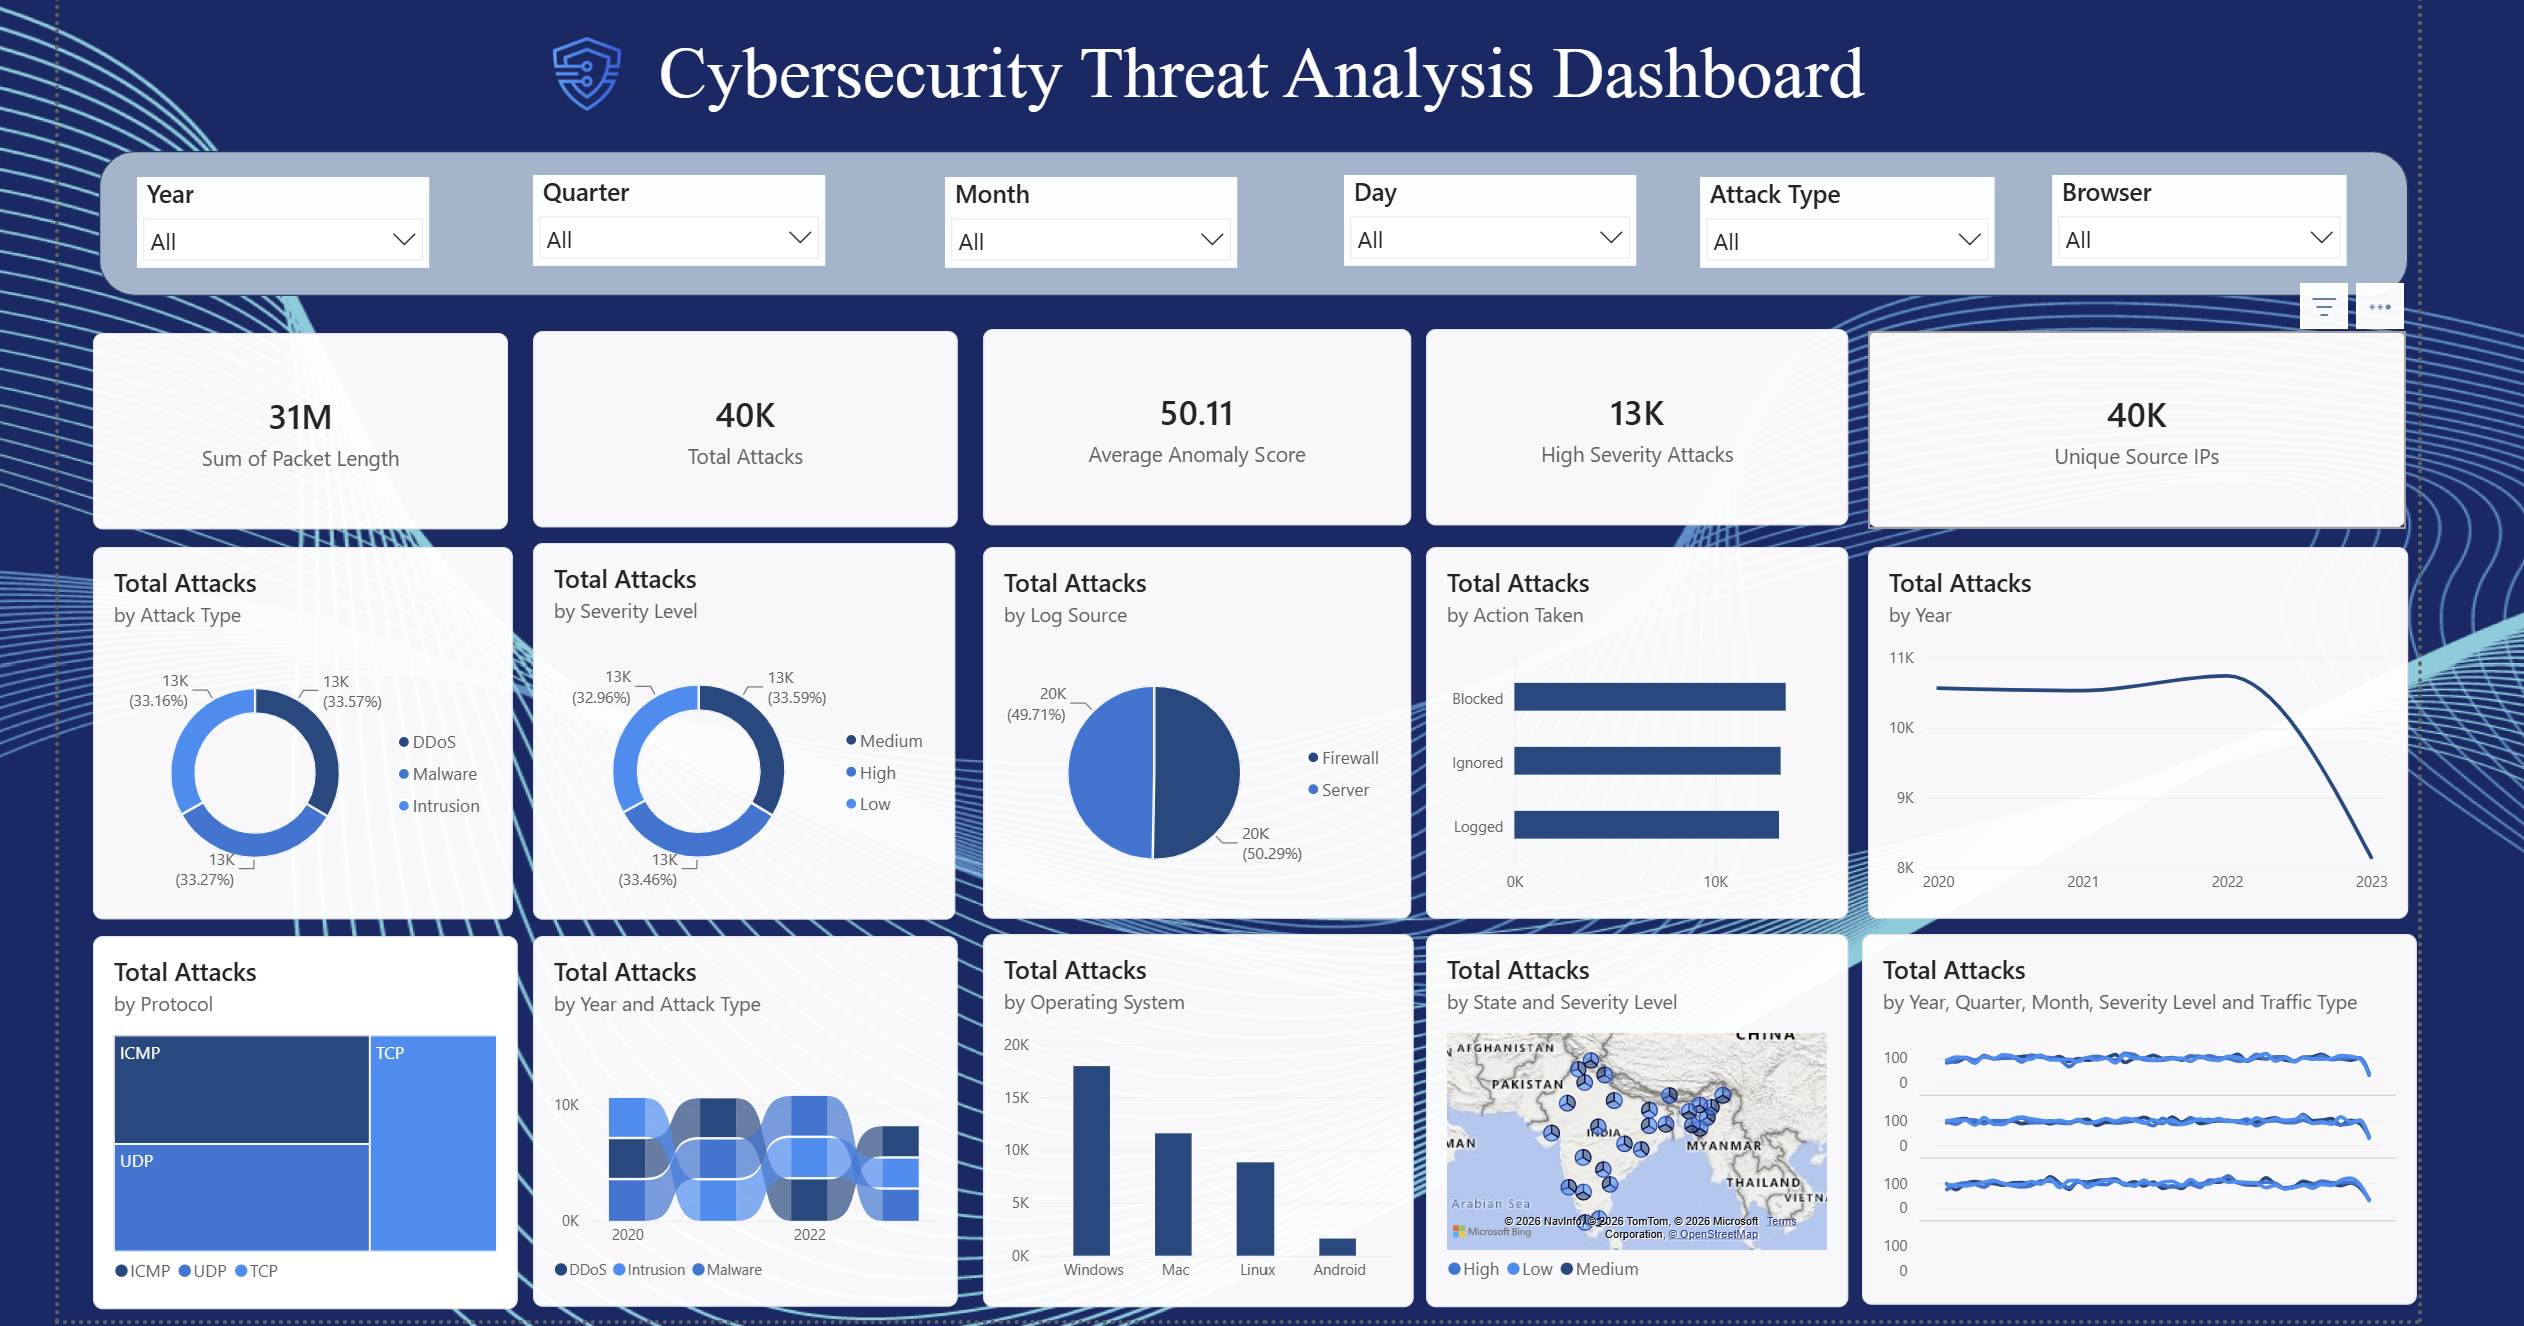

What the dashboard file says about the page in this screenshot:
{"tool":"powerbi","page":{"name":"Page 1","canvas":[1920,1080],"ordinal":0},"visuals":[{"type":"shape","box":[32,128,1880,118],"z":0},{"type":"slicer","fields":{"Values":["cybersecurity_attacks.Date.Variation.Date Hierarchy.Year"]},"box":[64,150,238,74],"z":1000},{"type":"card","fields":{"Values":["cybersecurity_attacks.Total Attacks"]},"box":[386,276,346,160],"z":2000},{"type":"card","fields":{"Values":["cybersecurity_attacks.Unique Source IPs"]},"box":[1472,276,438,160],"z":3000},{"type":"card","fields":{"Values":["cybersecurity_attacks.Average Anomaly Score"]},"box":[752,274,348,160],"z":4000},{"type":"card","fields":{"Values":["cybersecurity_attacks.High Severity Attacks"]},"box":[1112,274,344,160],"z":5000},{"type":"slicer","fields":{"Values":["cybersecurity_attacks.Date.Variation.Date Hierarchy.Quarter"]},"box":[386,148,238,74],"z":6000},{"type":"slicer","fields":{"Values":["cybersecurity_attacks.Attack Type"]},"box":[1336,150,240,74],"z":7000},{"type":"slicer","fields":{"Values":["cybersecurity_attacks.Date.Variation.Date Hierarchy.Day"]},"box":[1046,148,238,74],"z":8000},{"type":"slicer","fields":{"Values":["cybersecurity_attacks.Date.Variation.Date Hierarchy.Month"]},"box":[722,150,238,74],"z":9000},{"type":"lineChart","fields":{"Category":["cybersecurity_attacks.Date.Variation.Date Hierarchy.Year","cybersecurity_attacks.Date.Variation.Date Hierarchy.Quarter","cybersecurity_attacks.Date.Variation.Date Hierarchy.Month","cybersecurity_attacks.Date.Variation.Date Hierarchy.Day"],"Y":["cybersecurity_attacks.Total Attacks"]},"box":[1472,452,440,302],"z":10000},{"type":"donutChart","fields":{"Category":["cybersecurity_attacks.Severity Level"],"Y":["cybersecurity_attacks.Total Attacks"]},"box":[386,448,344,306],"z":11000},{"type":"donutChart","fields":{"Category":["cybersecurity_attacks.Attack Type"],"Y":["cybersecurity_attacks.Total Attacks"]},"box":[27.7,450.8,342.1,302.5],"z":12000},{"type":"ribbonChart","fields":{"Category":["cybersecurity_attacks.Date.Variation.Date Hierarchy.Year","cybersecurity_attacks.Date.Variation.Date Hierarchy.Quarter","cybersecurity_attacks.Date.Variation.Date Hierarchy.Month","cybersecurity_attacks.Date.Variation.Date Hierarchy.Day"],"Series":["cybersecurity_attacks.Attack Type"],"Y":["cybersecurity_attacks.Total Attacks"]},"box":[386,768,346,302],"z":13000},{"type":"clusteredBarChart","fields":{"Category":["cybersecurity_attacks.Action Taken"],"Y":["cybersecurity_attacks.Total Attacks"]},"box":[1112,452,344,302],"z":14000},{"type":"image","box":[386,18,88,96],"z":15000},{"type":"textbox","box":[412,12,1134,108],"z":16000},{"type":"treemap","fields":{"Group":["cybersecurity_attacks.Protocol"],"Values":["cybersecurity_attacks.Total Attacks"]},"box":[28,768,346,304],"z":17000},{"type":"card","fields":{"Values":["Sum(cybersecurity_attacks.Packet Length)"]},"box":[27.7,276.8,338.1,160.2],"z":18000},{"type":"pieChart","fields":{"Category":["cybersecurity_attacks.Log Source"],"Y":["cybersecurity_attacks.Total Attacks"]},"box":[752,452,348,302],"z":19000},{"type":"map","fields":{"Category":["cybersecurity_attacks.State","cybersecurity_attacks.City"],"Series":["cybersecurity_attacks.Severity Level"],"Size":["cybersecurity_attacks.Total Attacks"]},"box":[1112,766,344,304],"z":20000},{"type":"columnChart","fields":{"Category":["cybersecurity_attacks.Operating System"],"Y":["cybersecurity_attacks.Total Attacks"]},"box":[752,766,350,304],"z":21000},{"type":"lineChart","fields":{"Category":["cybersecurity_attacks.Date.Variation.Date Hierarchy.Year","cybersecurity_attacks.Date.Variation.Date Hierarchy.Quarter","cybersecurity_attacks.Date.Variation.Date Hierarchy.Month","cybersecurity_attacks.Date.Variation.Date Hierarchy.Day"],"Rows":["cybersecurity_attacks.Traffic Type"],"Series":["cybersecurity_attacks.Severity Level"],"Y":["cybersecurity_attacks.Total Attacks"]},"box":[1468,766,452,302],"z":22000},{"type":"slicer","fields":{"Values":["cybersecurity_attacks.Browser"]},"box":[1622,148,240,74],"z":23000},{"type":"actionButton","box":[1762.5,45,100,40],"z":24000}]}

Visuals, with their boxes in screenshot pixels (x1, y1, x2, y2):
shape: {"left": 105, "top": 149, "right": 2384, "bottom": 292}
slicer - cybersecurity_attacks.Date.Variation.Date Hierarchy.Year: {"left": 143, "top": 175, "right": 432, "bottom": 265}
card - cybersecurity_attacks.Total Attacks: {"left": 534, "top": 328, "right": 953, "bottom": 522}
card - cybersecurity_attacks.Unique Source IPs: {"left": 1850, "top": 328, "right": 2381, "bottom": 522}
card - cybersecurity_attacks.Average Anomaly Score: {"left": 977, "top": 326, "right": 1399, "bottom": 520}
card - cybersecurity_attacks.High Severity Attacks: {"left": 1414, "top": 326, "right": 1831, "bottom": 520}
slicer - cybersecurity_attacks.Date.Variation.Date Hierarchy.Quarter: {"left": 534, "top": 173, "right": 822, "bottom": 263}
slicer - cybersecurity_attacks.Attack Type: {"left": 1685, "top": 175, "right": 1976, "bottom": 265}
slicer - cybersecurity_attacks.Date.Variation.Date Hierarchy.Day: {"left": 1334, "top": 173, "right": 1622, "bottom": 263}
slicer - cybersecurity_attacks.Date.Variation.Date Hierarchy.Month: {"left": 941, "top": 175, "right": 1230, "bottom": 265}
lineChart - cybersecurity_attacks.Date.Variation.Date Hierarchy.Year x cybersecurity_attacks.Date.Variation.Date Hierarchy.Quarter: {"left": 1850, "top": 541, "right": 2384, "bottom": 908}
donutChart - cybersecurity_attacks.Severity Level x cybersecurity_attacks.Total Attacks: {"left": 534, "top": 537, "right": 951, "bottom": 908}
donutChart - cybersecurity_attacks.Attack Type x cybersecurity_attacks.Total Attacks: {"left": 99, "top": 540, "right": 514, "bottom": 907}
ribbonChart - cybersecurity_attacks.Date.Variation.Date Hierarchy.Year x cybersecurity_attacks.Date.Variation.Date Hierarchy.Quarter: {"left": 534, "top": 925, "right": 953, "bottom": 1291}
clusteredBarChart - cybersecurity_attacks.Action Taken x cybersecurity_attacks.Total Attacks: {"left": 1414, "top": 541, "right": 1831, "bottom": 908}
image: {"left": 534, "top": 15, "right": 640, "bottom": 132}
textbox: {"left": 565, "top": 8, "right": 1940, "bottom": 139}
treemap - cybersecurity_attacks.Protocol x cybersecurity_attacks.Total Attacks: {"left": 100, "top": 925, "right": 519, "bottom": 1293}
card - Sum(cybersecurity_attacks.Packet Length): {"left": 99, "top": 329, "right": 509, "bottom": 523}
pieChart - cybersecurity_attacks.Log Source x cybersecurity_attacks.Total Attacks: {"left": 977, "top": 541, "right": 1399, "bottom": 908}
map - cybersecurity_attacks.State x cybersecurity_attacks.City: {"left": 1414, "top": 922, "right": 1831, "bottom": 1291}
columnChart - cybersecurity_attacks.Operating System x cybersecurity_attacks.Total Attacks: {"left": 977, "top": 922, "right": 1402, "bottom": 1291}
lineChart - cybersecurity_attacks.Date.Variation.Date Hierarchy.Year x cybersecurity_attacks.Date.Variation.Date Hierarchy.Quarter: {"left": 1846, "top": 922, "right": 2393, "bottom": 1288}
slicer - cybersecurity_attacks.Browser: {"left": 2032, "top": 173, "right": 2323, "bottom": 263}
actionButton: {"left": 2203, "top": 48, "right": 2324, "bottom": 96}
